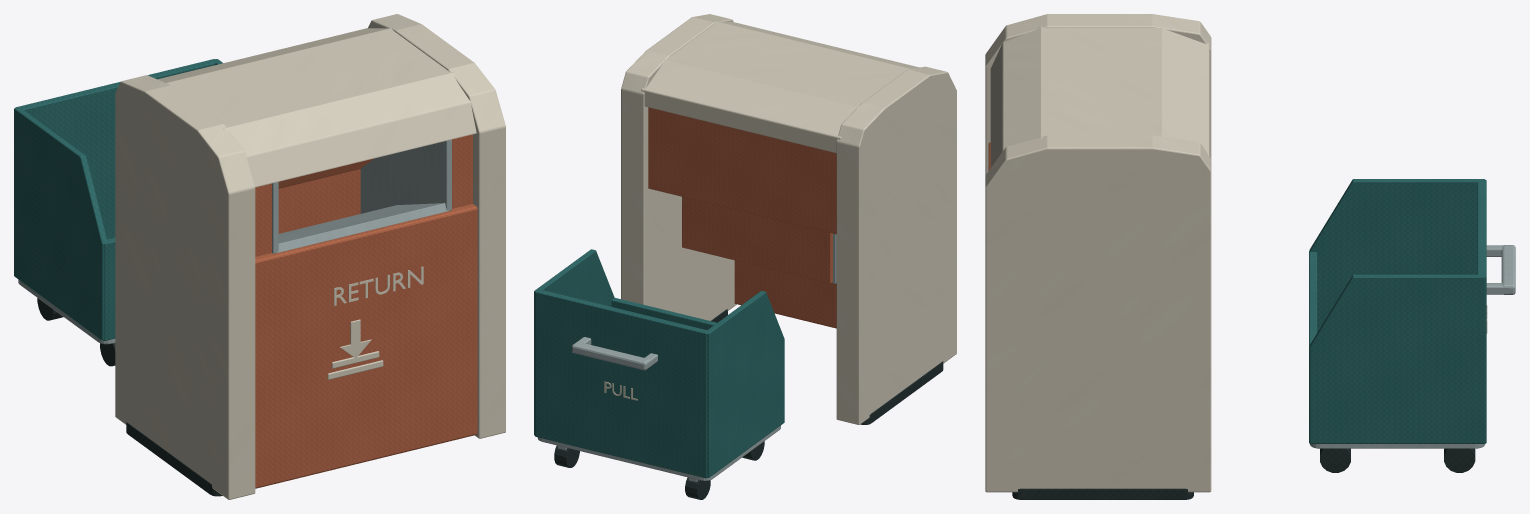
The model's file is AST-AQU-008_withdrawn.glb.
3 renders of one model, left to right at view 1: azimuth 30°, elevation 25°; view 2: azimuth 150°, elevation 25°; view 3: azimuth 270°, elevation 25°, orthographic. The views are drawn at different scales.
Parts seen in each view (by area): view 1: AST-AQU-008__fixed__ivory_enamel, AST-AQU-008__fixed__aquatic_clay_sling, AST-AQU-008__container__aquatic_teal_sling, AST-AQU-008__fixed__aquatic_satin_alloy, AST-AQU-008__fixed__aquatic_dark_grip, AST-AQU-008__container__aquatic_dark_grip; view 2: AST-AQU-008__fixed__ivory_enamel, AST-AQU-008__container__aquatic_teal_sling, AST-AQU-008__fixed__aquatic_clay_sling, AST-AQU-008__container__aquatic_satin_alloy, AST-AQU-008__container__aquatic_dark_grip, AST-AQU-008__fixed__aquatic_dark_grip; view 3: AST-AQU-008__fixed__ivory_enamel, AST-AQU-008__container__aquatic_teal_sling, AST-AQU-008__fixed__aquatic_dark_grip, AST-AQU-008__container__aquatic_satin_alloy, AST-AQU-008__container__aquatic_dark_grip.
Boxes of the visible parts, box(x1,y1,x2,y2) form: AST-AQU-008__fixed__ivory_enamel: box(115, 14, 505, 499); AST-AQU-008__fixed__aquatic_clay_sling: box(255, 134, 477, 488); AST-AQU-008__container__aquatic_teal_sling: box(14, 59, 222, 340); AST-AQU-008__fixed__aquatic_satin_alloy: box(272, 139, 451, 253); AST-AQU-008__fixed__aquatic_dark_grip: box(126, 422, 222, 496); AST-AQU-008__container__aquatic_dark_grip: box(37, 298, 115, 366); AST-AQU-008__fixed__ivory_enamel: box(621, 14, 956, 424); AST-AQU-008__container__aquatic_teal_sling: box(534, 249, 784, 478); AST-AQU-008__fixed__aquatic_clay_sling: box(648, 107, 836, 328); AST-AQU-008__container__aquatic_satin_alloy: box(537, 337, 780, 481); AST-AQU-008__container__aquatic_dark_grip: box(554, 441, 764, 499); AST-AQU-008__fixed__aquatic_dark_grip: box(711, 309, 943, 424); AST-AQU-008__fixed__ivory_enamel: box(985, 14, 1211, 492); AST-AQU-008__container__aquatic_teal_sling: box(1309, 179, 1486, 443); AST-AQU-008__fixed__aquatic_dark_grip: box(1012, 488, 1193, 499); AST-AQU-008__container__aquatic_satin_alloy: box(1310, 245, 1515, 448); AST-AQU-008__container__aquatic_dark_grip: box(1320, 448, 1475, 472).
Bounding box in the file's own units: 1 × 1.22 × 1.67.
Materials: 5 (5 with a texture image).
